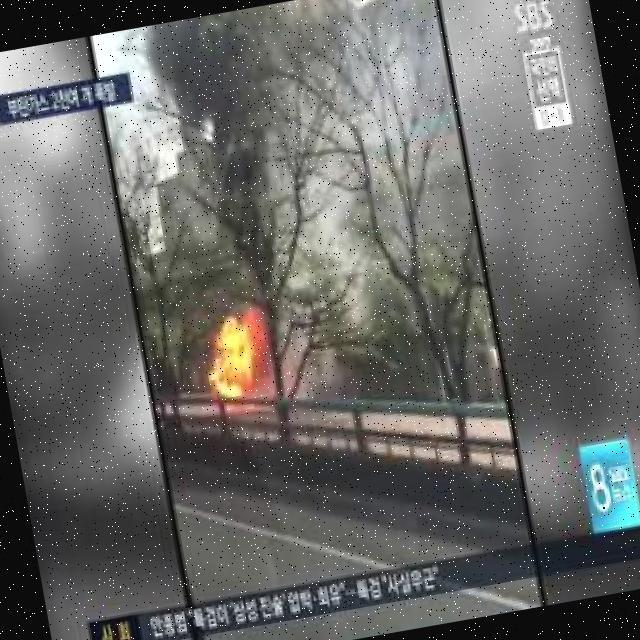Fire: (189, 301, 282, 398)
